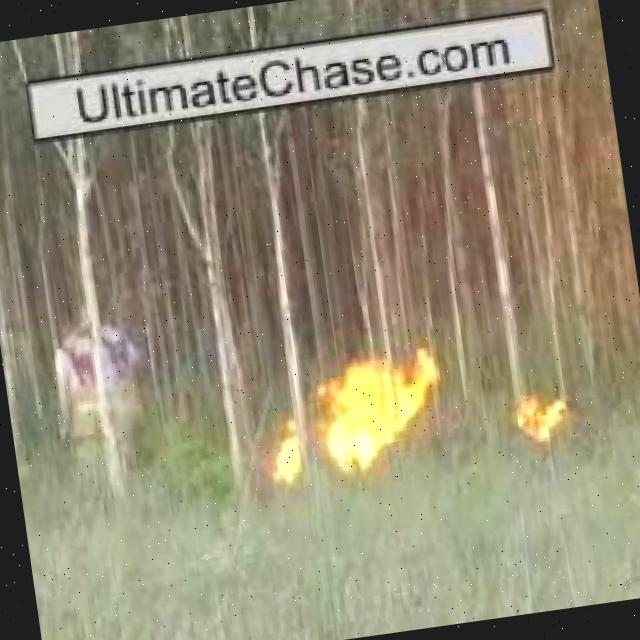fire: (252, 359, 461, 489), (506, 388, 582, 448)
